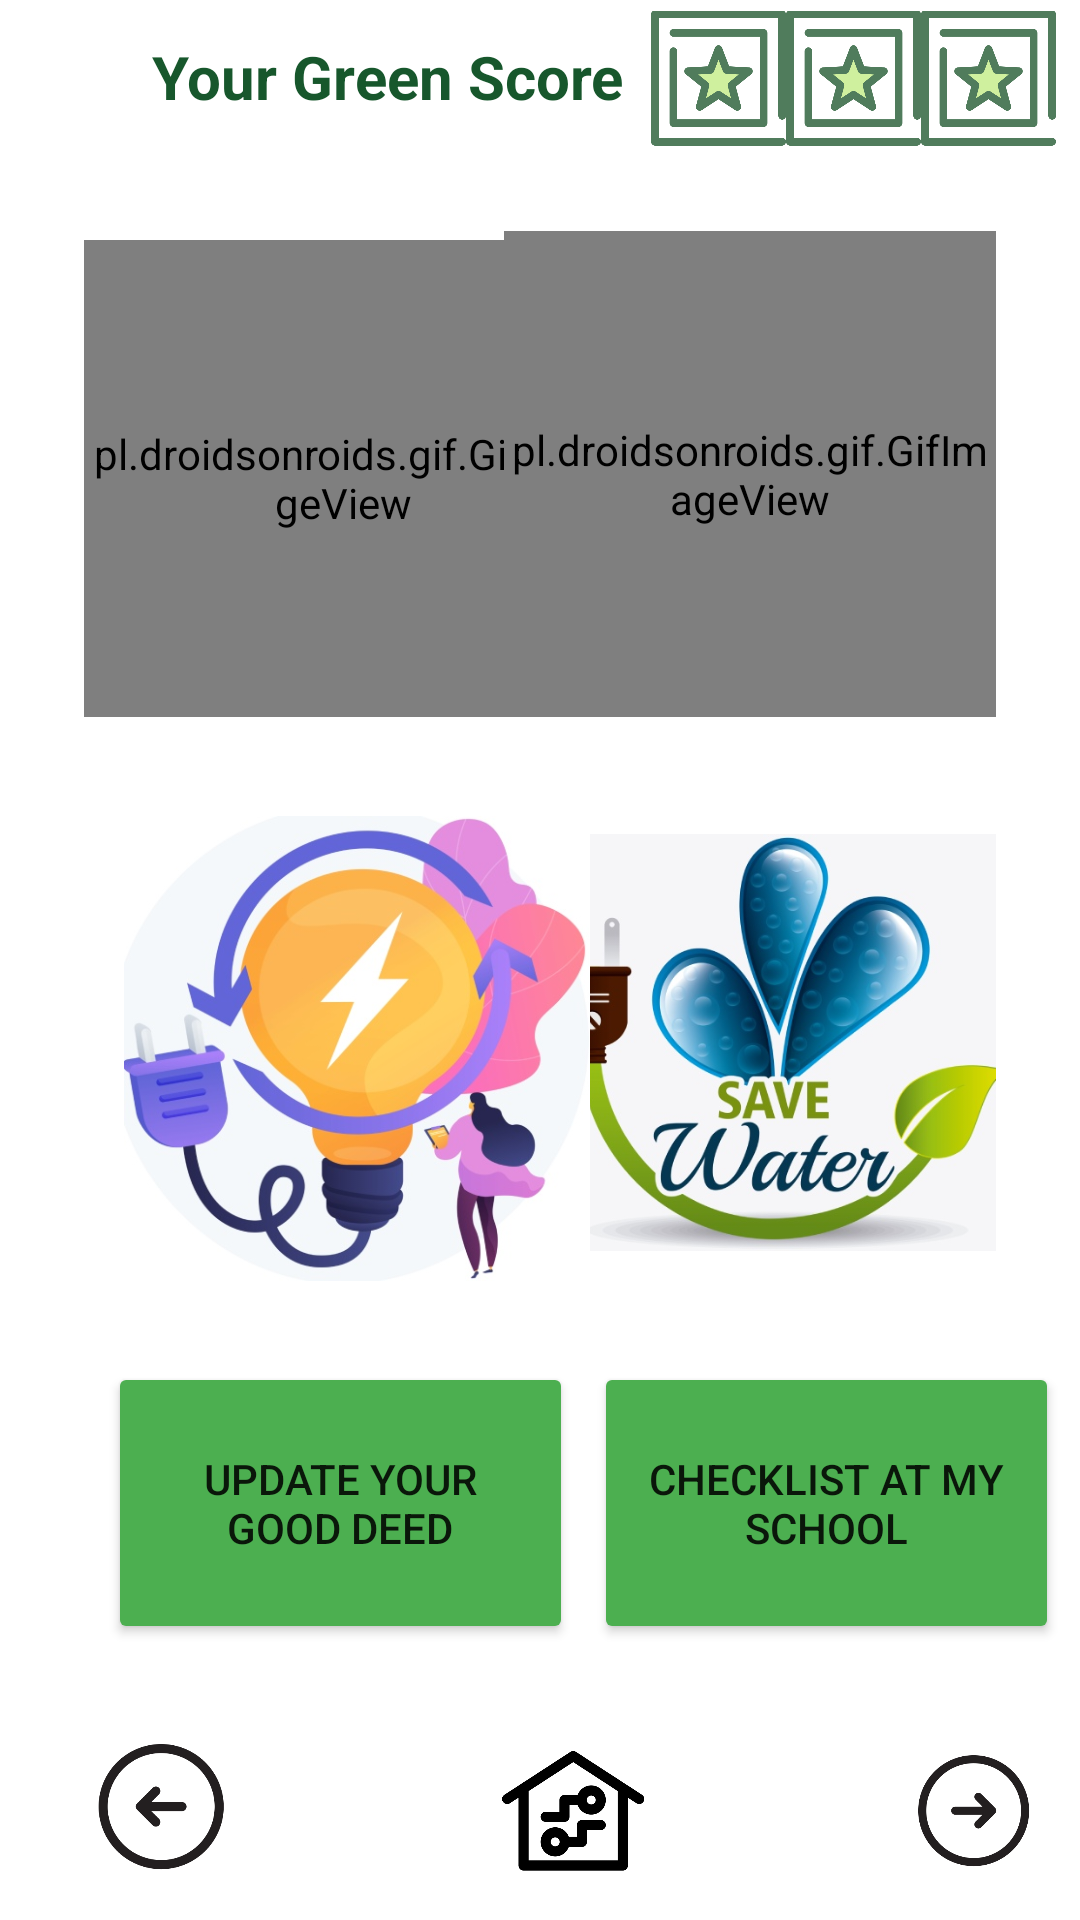

Where to tap for icons on this 1080×1920 app screen, as point (x, y):
back: point (161, 1806)
forward: point (973, 1810)
greenstar: point (853, 78), point (718, 78), point (988, 78)
home: point (573, 1811)
